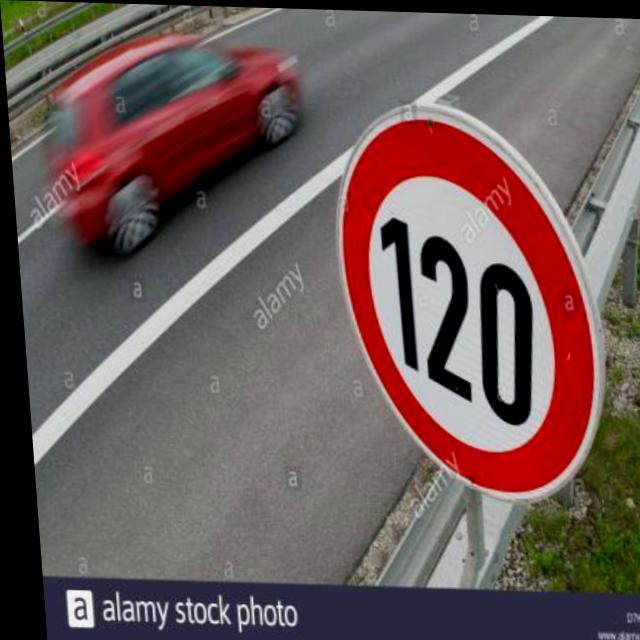limit120: (311, 88, 623, 517)
